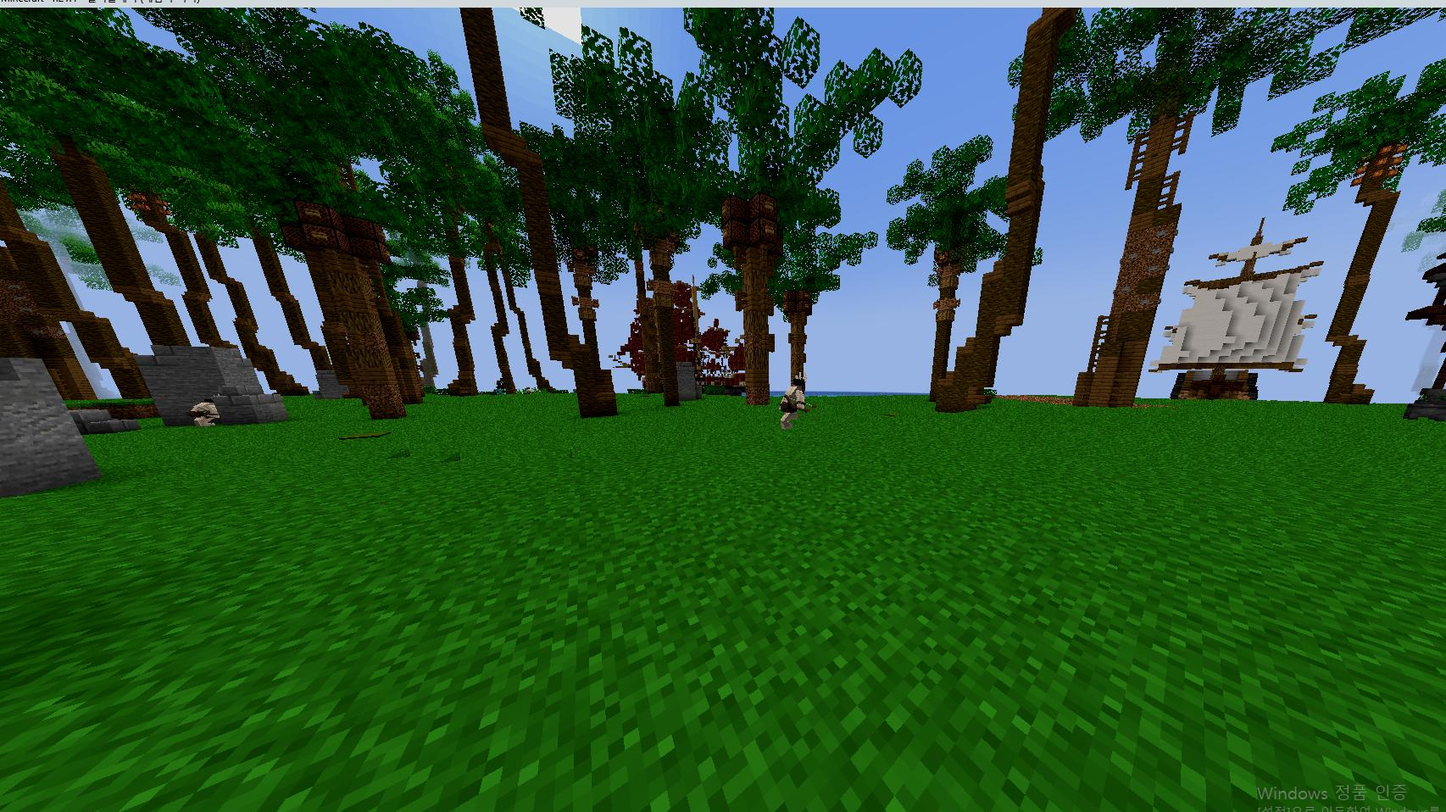bow_indian: (767, 370, 837, 437)
